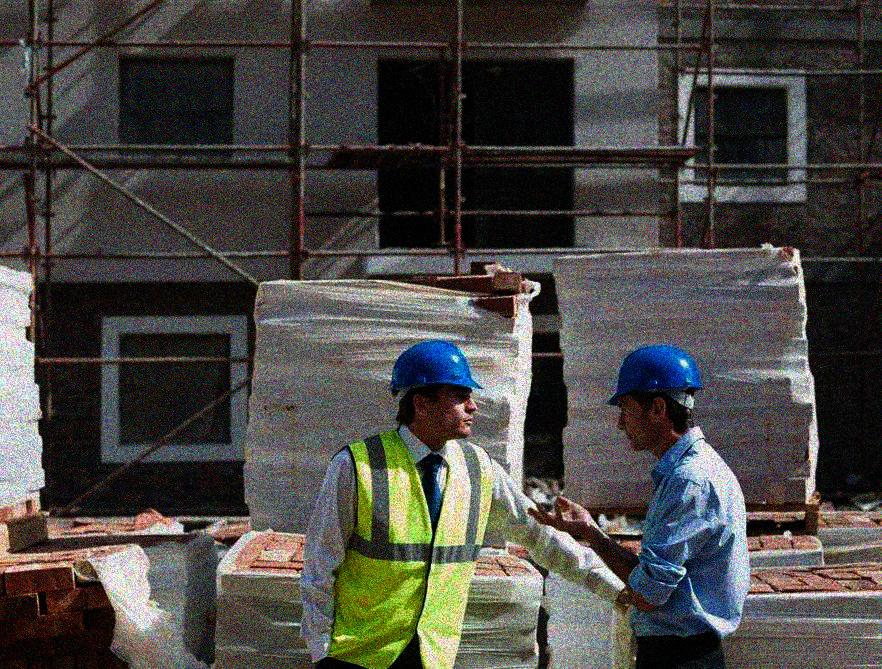helmet: (605, 346, 702, 453), (393, 340, 481, 439)
